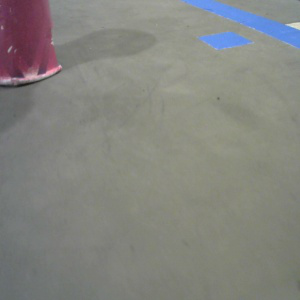middle: (1, 1, 62, 85)
